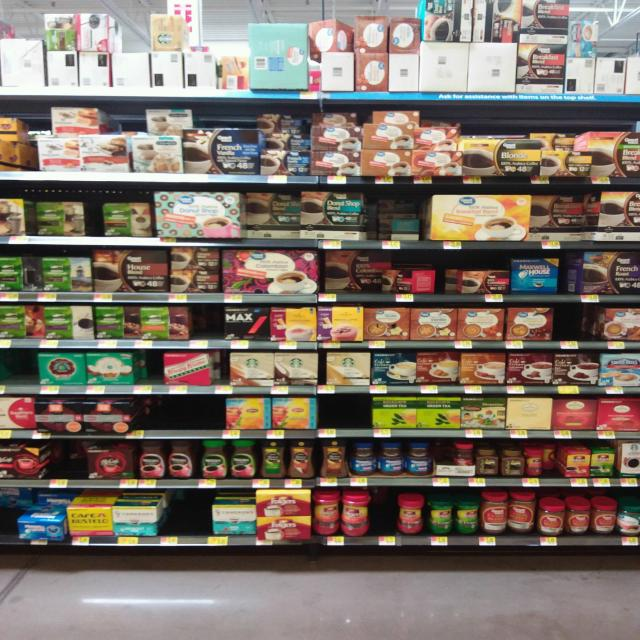void: (161, 493, 206, 547), (320, 392, 368, 441), (46, 444, 87, 494), (178, 397, 218, 443), (556, 308, 600, 349), (134, 396, 171, 442), (0, 350, 35, 396), (362, 188, 383, 247), (196, 306, 222, 352)
